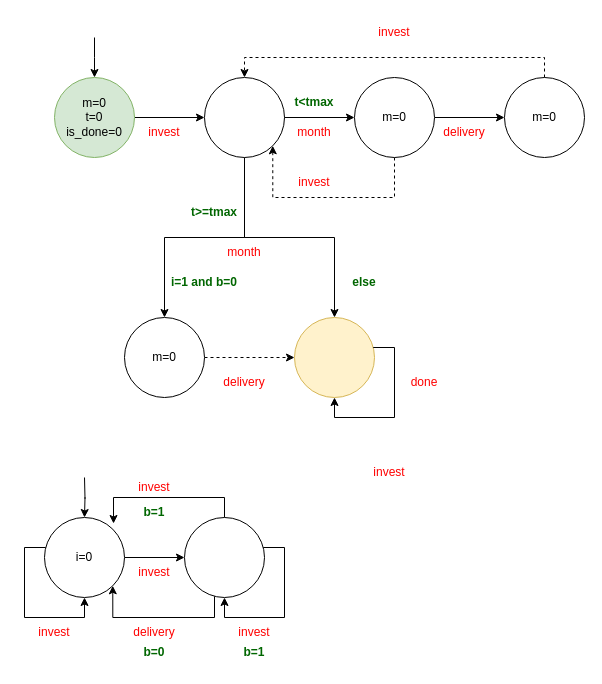
Image size: 602x684. Some labels were removed from this diagram. Each missing label, with the centre of its shape:
i=1: pixel 224 557
is_done=1: pixel 334 357
m=1 t=t+1: pixel 244 117
